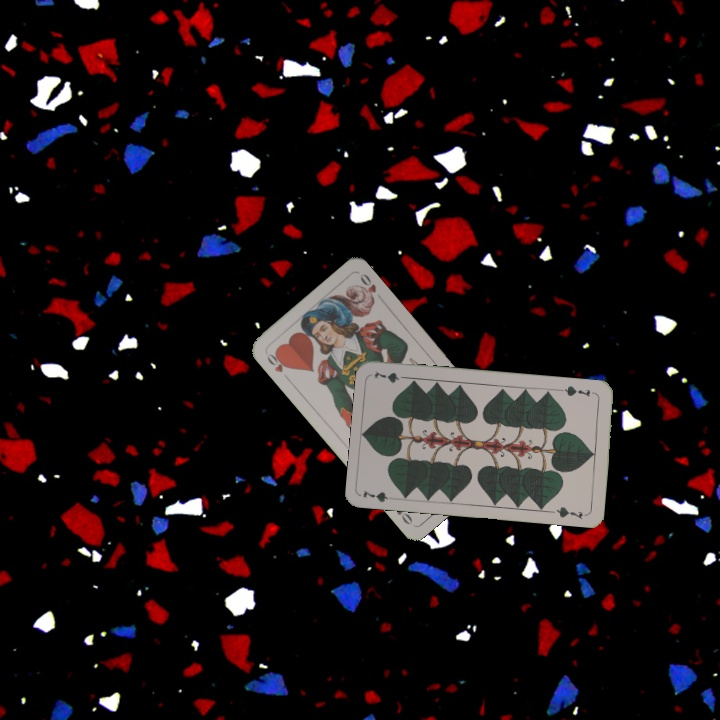G7: (359, 486, 400, 505), (558, 382, 598, 399)
HO: (263, 348, 292, 375)
